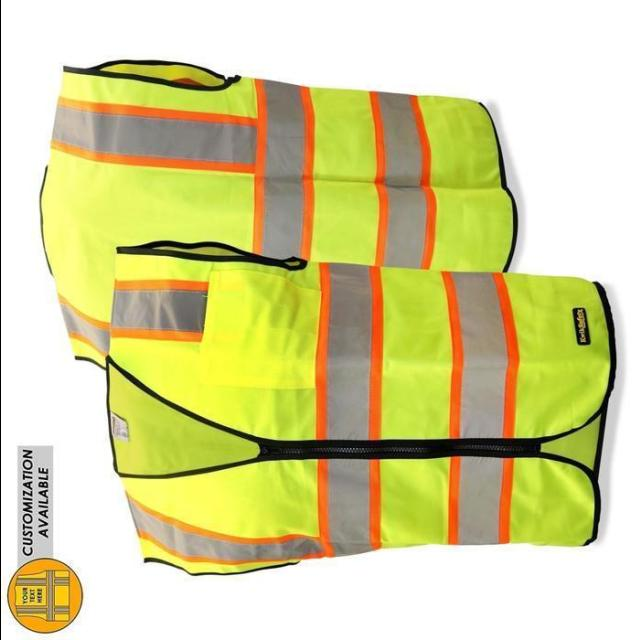jacket: (98, 238, 604, 590)
